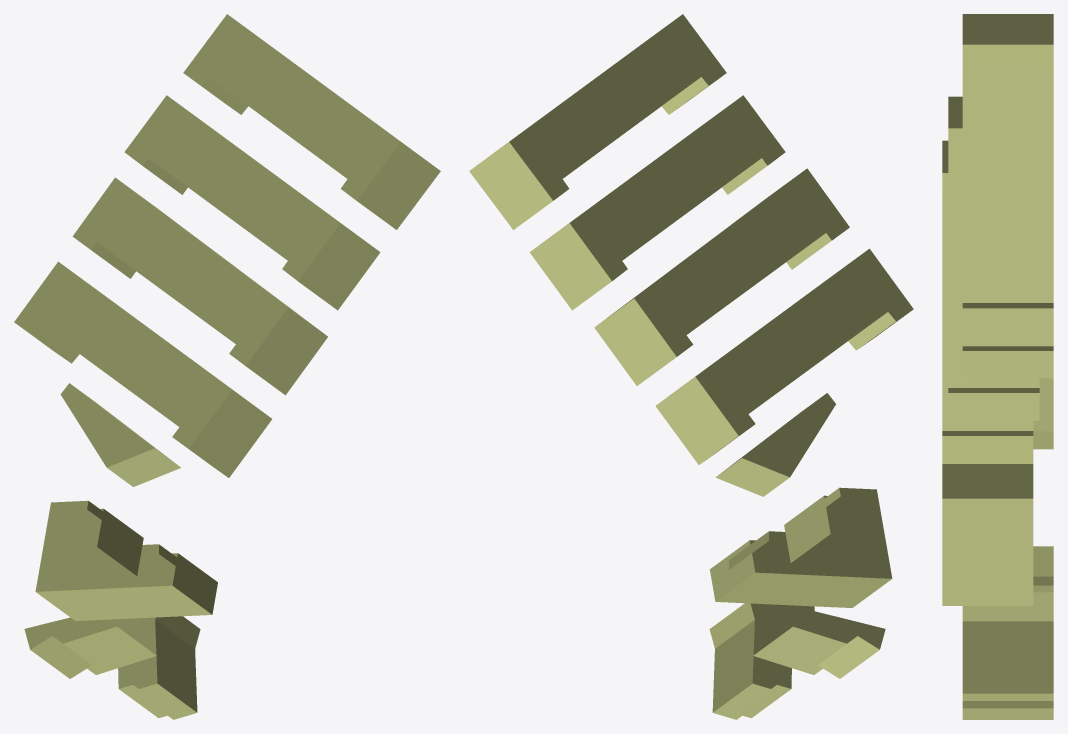
The picture shows the model from 3 angles, left to right: view 1: azimuth 30°, elevation 25°; view 2: azimuth 150°, elevation 25°; view 3: azimuth 270°, elevation 25°; orthographic projection. The views are drawn at different scales.
Parts seen in each view (by area): view 1: 0_0_1_3_1_1_2_1; view 2: 0_0_1_3_1_1_2_1; view 3: 0_0_1_3_1_1_2_1.
Part boxes in pixels (x1,y1,x2,y2): 0_0_1_3_1_1_2_1: (14,14,440,719); 0_0_1_3_1_1_2_1: (469,14,913,719); 0_0_1_3_1_1_2_1: (942,14,1053,719).
Size of the model in its own units: 51.45 by 81.21 by 11.
